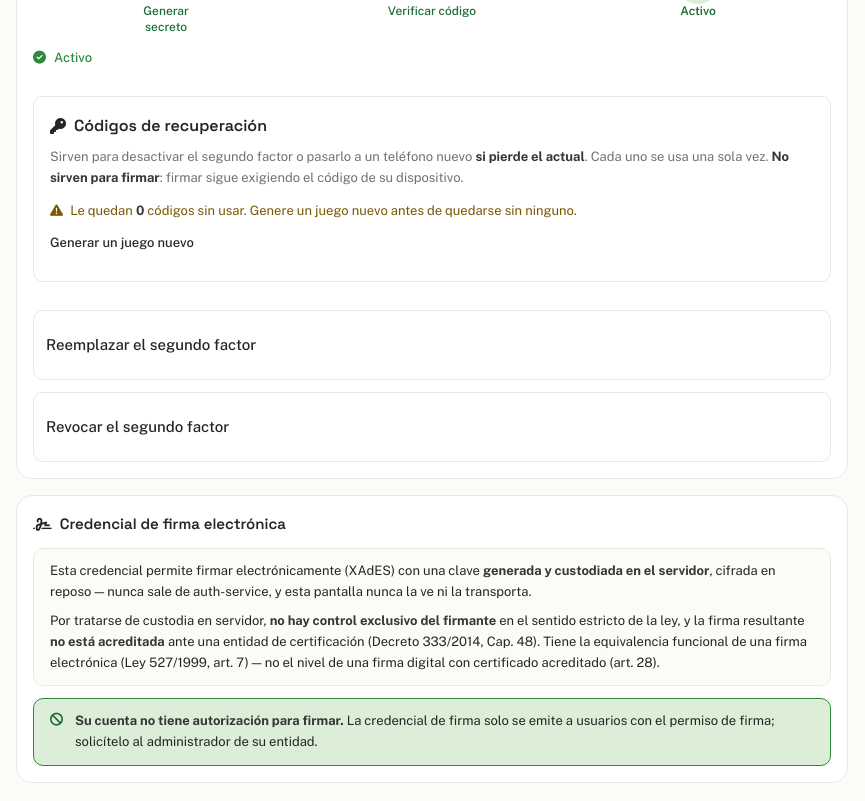
Test: /perfil — errores de validación asociados al campo › código de revocación TOTP inválido: error asociado al campo `totp-revoke-code`
The image size is (865, 801).
(page scrolled)
Click the heading "Revocar el segundo factor".
click(138, 427)  # box [46,418,229,435]
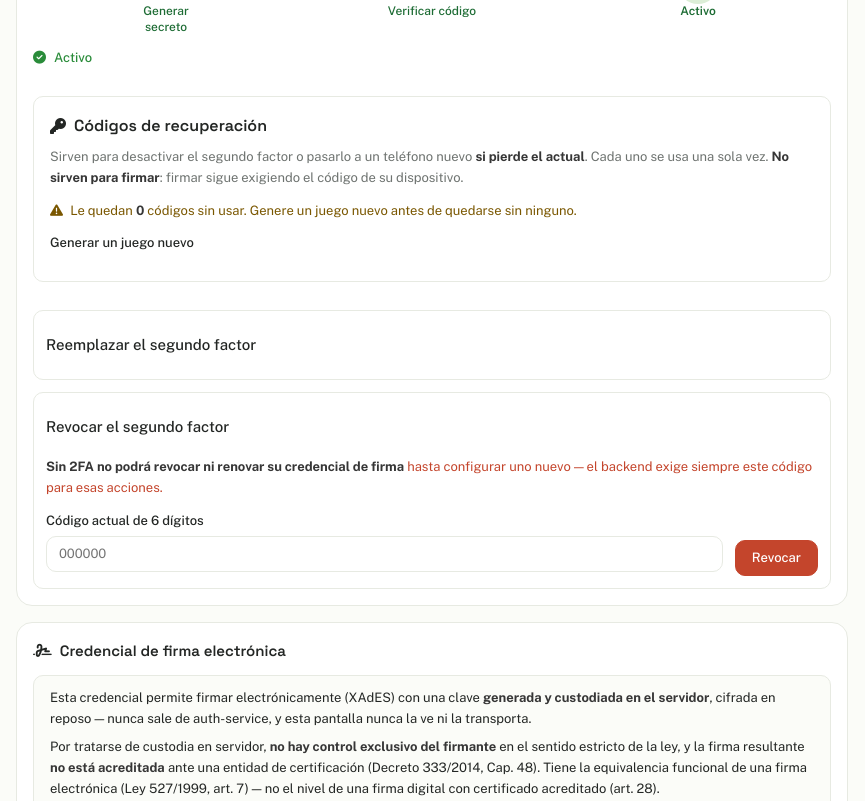
Click the button named "revocar".
click(776, 558)  # box [735,540,818,576]
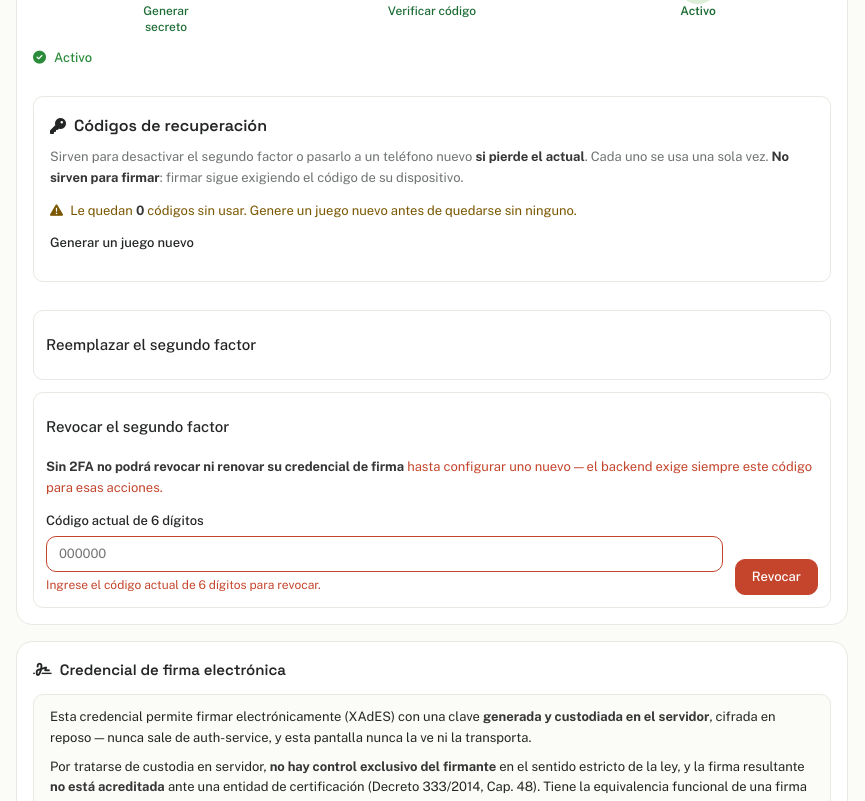
Expected: the text "Ingrese el código actual de 6 dígitos para revocar." is shown, [46,578,321,592]
